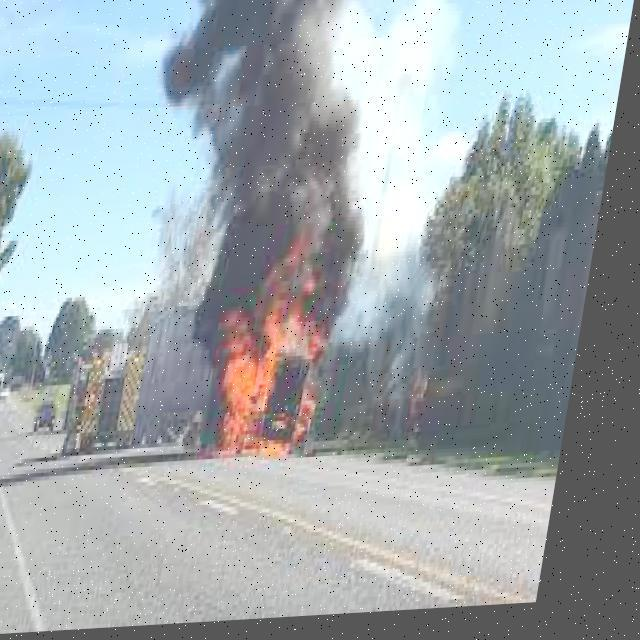Fire: (193, 237, 361, 483)
